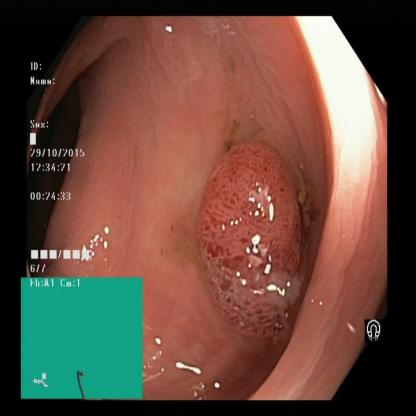Labels: (26, 54, 99, 277), (22, 278, 143, 401), (360, 307, 389, 348)
Polyps: (199, 130, 299, 330)
